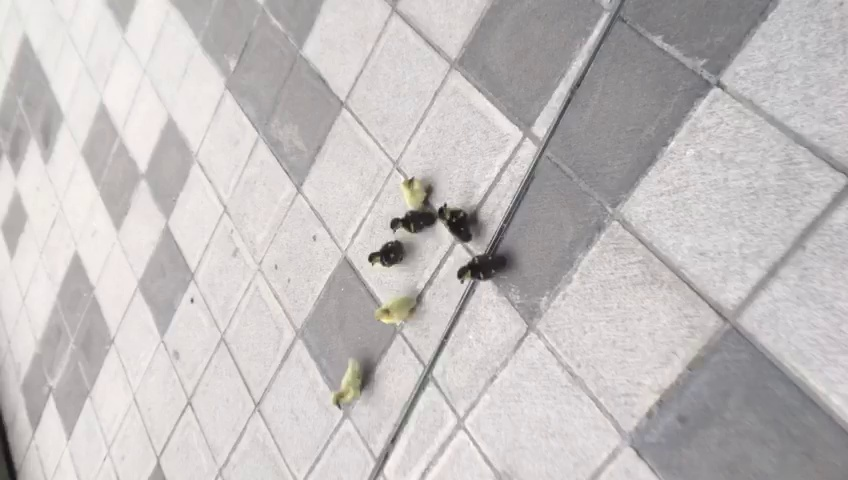patito: (330, 357, 364, 413), (459, 251, 506, 287), (437, 202, 476, 243), (374, 295, 424, 326), (391, 209, 437, 236), (368, 236, 404, 269), (401, 174, 433, 208)
